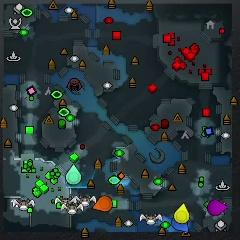p1: (173, 219, 189, 231)
p2: (65, 163, 81, 186)
p3: (208, 199, 227, 216)
p4: (172, 204, 189, 224)
p5: (94, 195, 113, 212)
